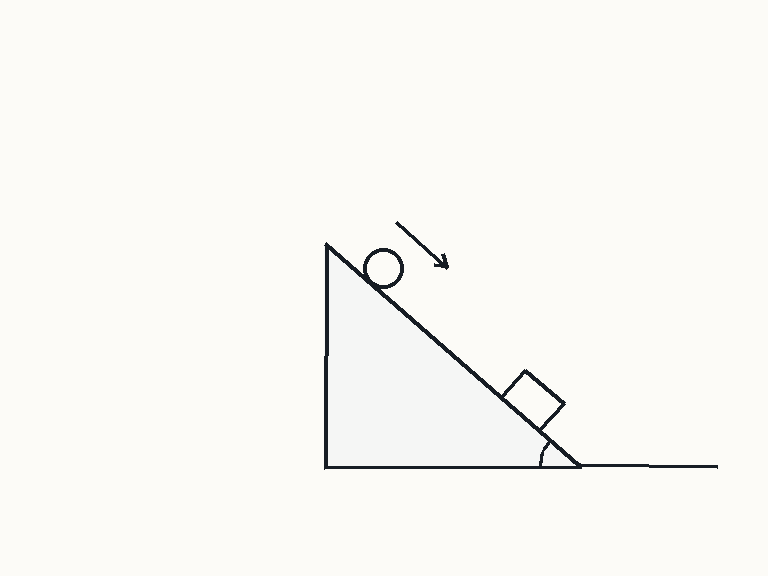ball: (361, 246, 405, 290)
block: (499, 367, 566, 433)
ramp: (323, 242, 582, 468)
